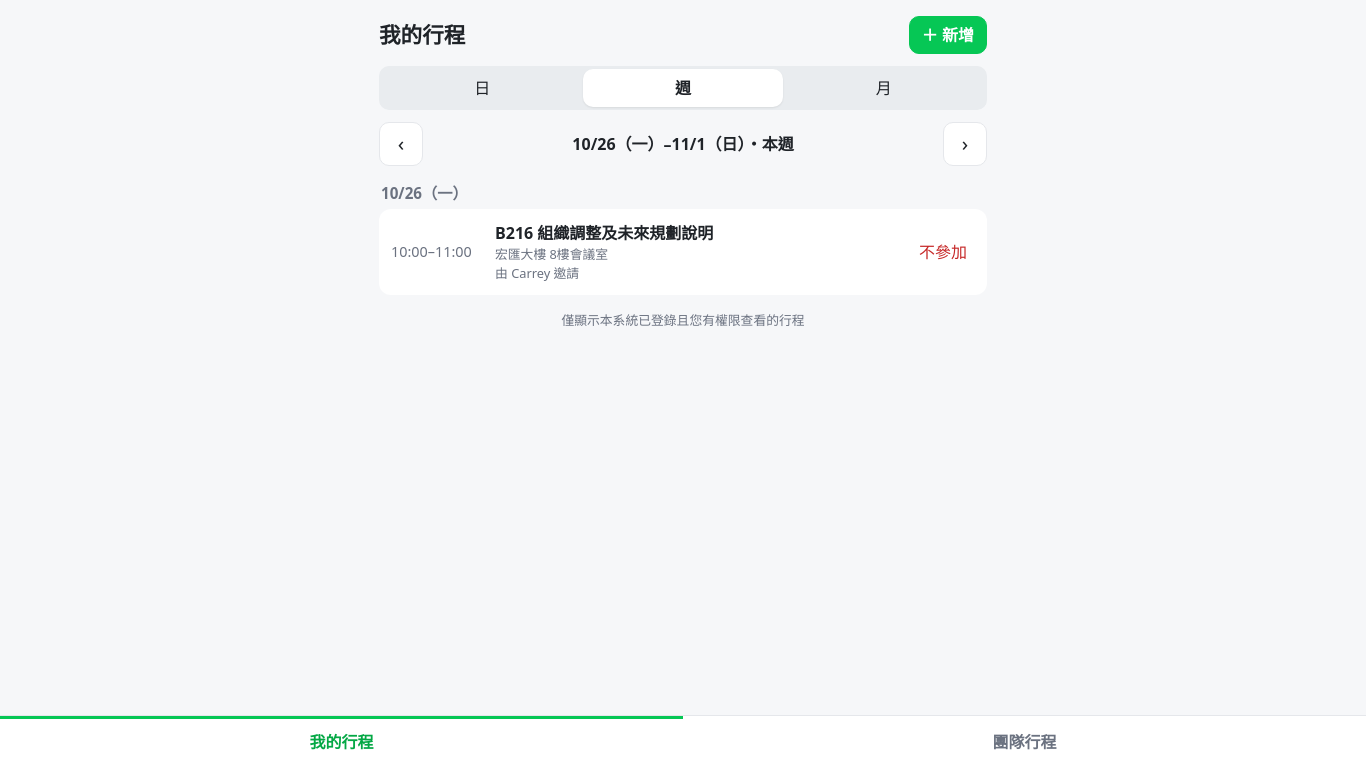
Test: invited event shows organizer and a decline button on my page
The image size is (1366, 768).
Expected: the text "由 Carrey 邀請" is shown, [495,264,579,282]
Click the button "不參加".
click(943, 252)  # box [911,234,975,270]
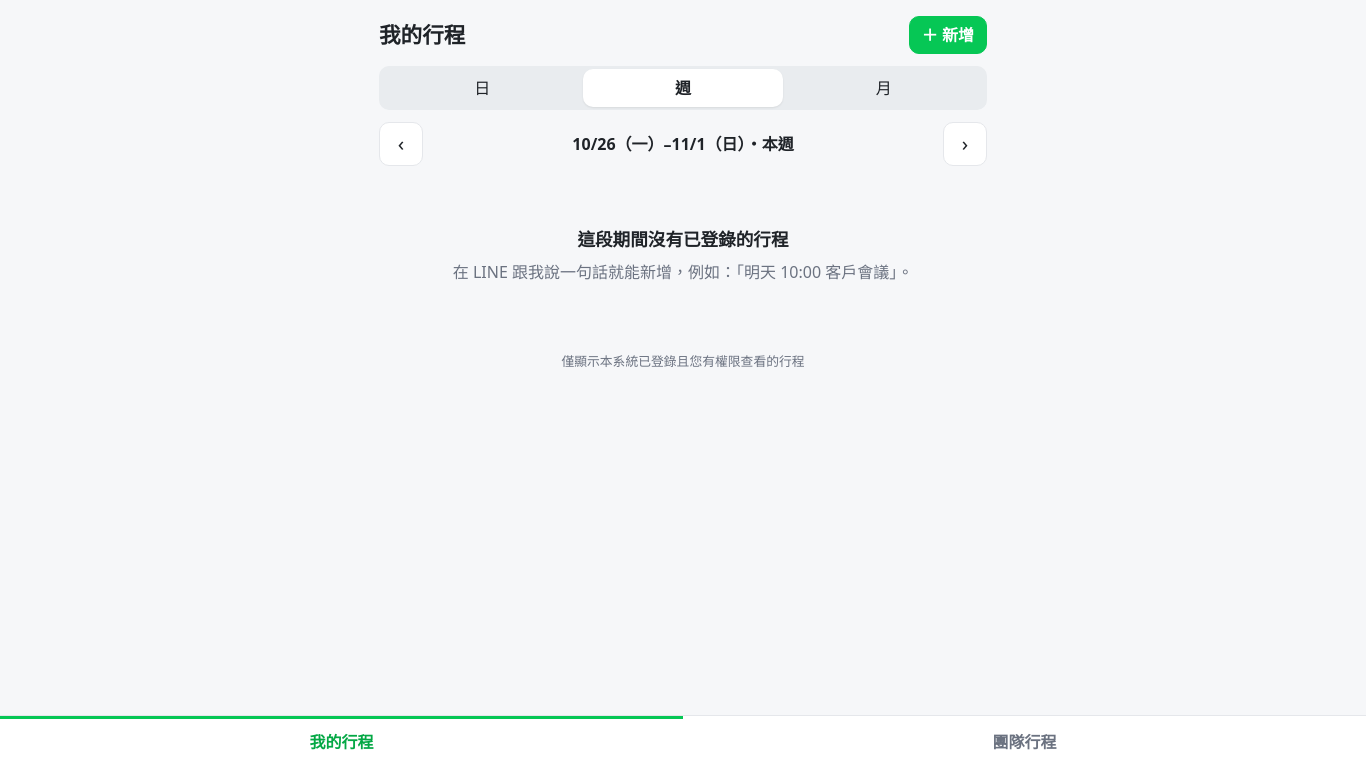
Now the text "由 Carrey 邀請" is gone
